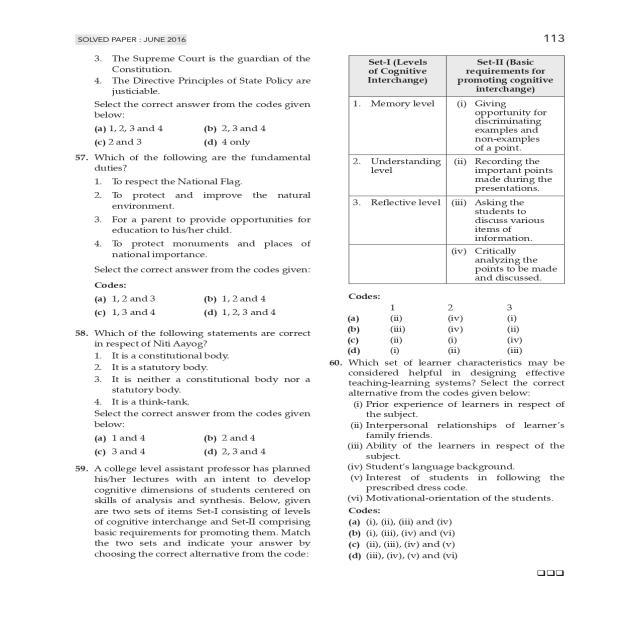Answer_Block: (77, 456, 328, 570), (338, 281, 576, 356), (338, 506, 576, 568), (77, 280, 328, 323), (77, 432, 328, 457), (77, 124, 328, 148)
Question_Answer_Block: (338, 46, 576, 359), (338, 357, 576, 568), (77, 150, 328, 322), (77, 326, 328, 458), (77, 47, 328, 150), (77, 47, 328, 122)
Question_Block: (334, 40, 570, 280), (338, 358, 576, 506), (77, 150, 328, 278), (77, 326, 328, 430)
Question_Paper_Area: (77, 47, 328, 571), (338, 46, 576, 568)
